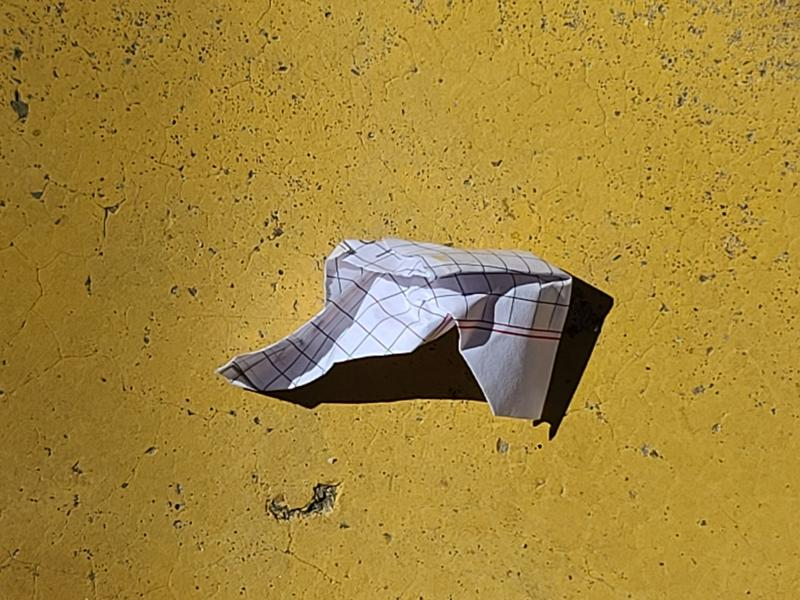papel: (215, 238, 573, 420)
